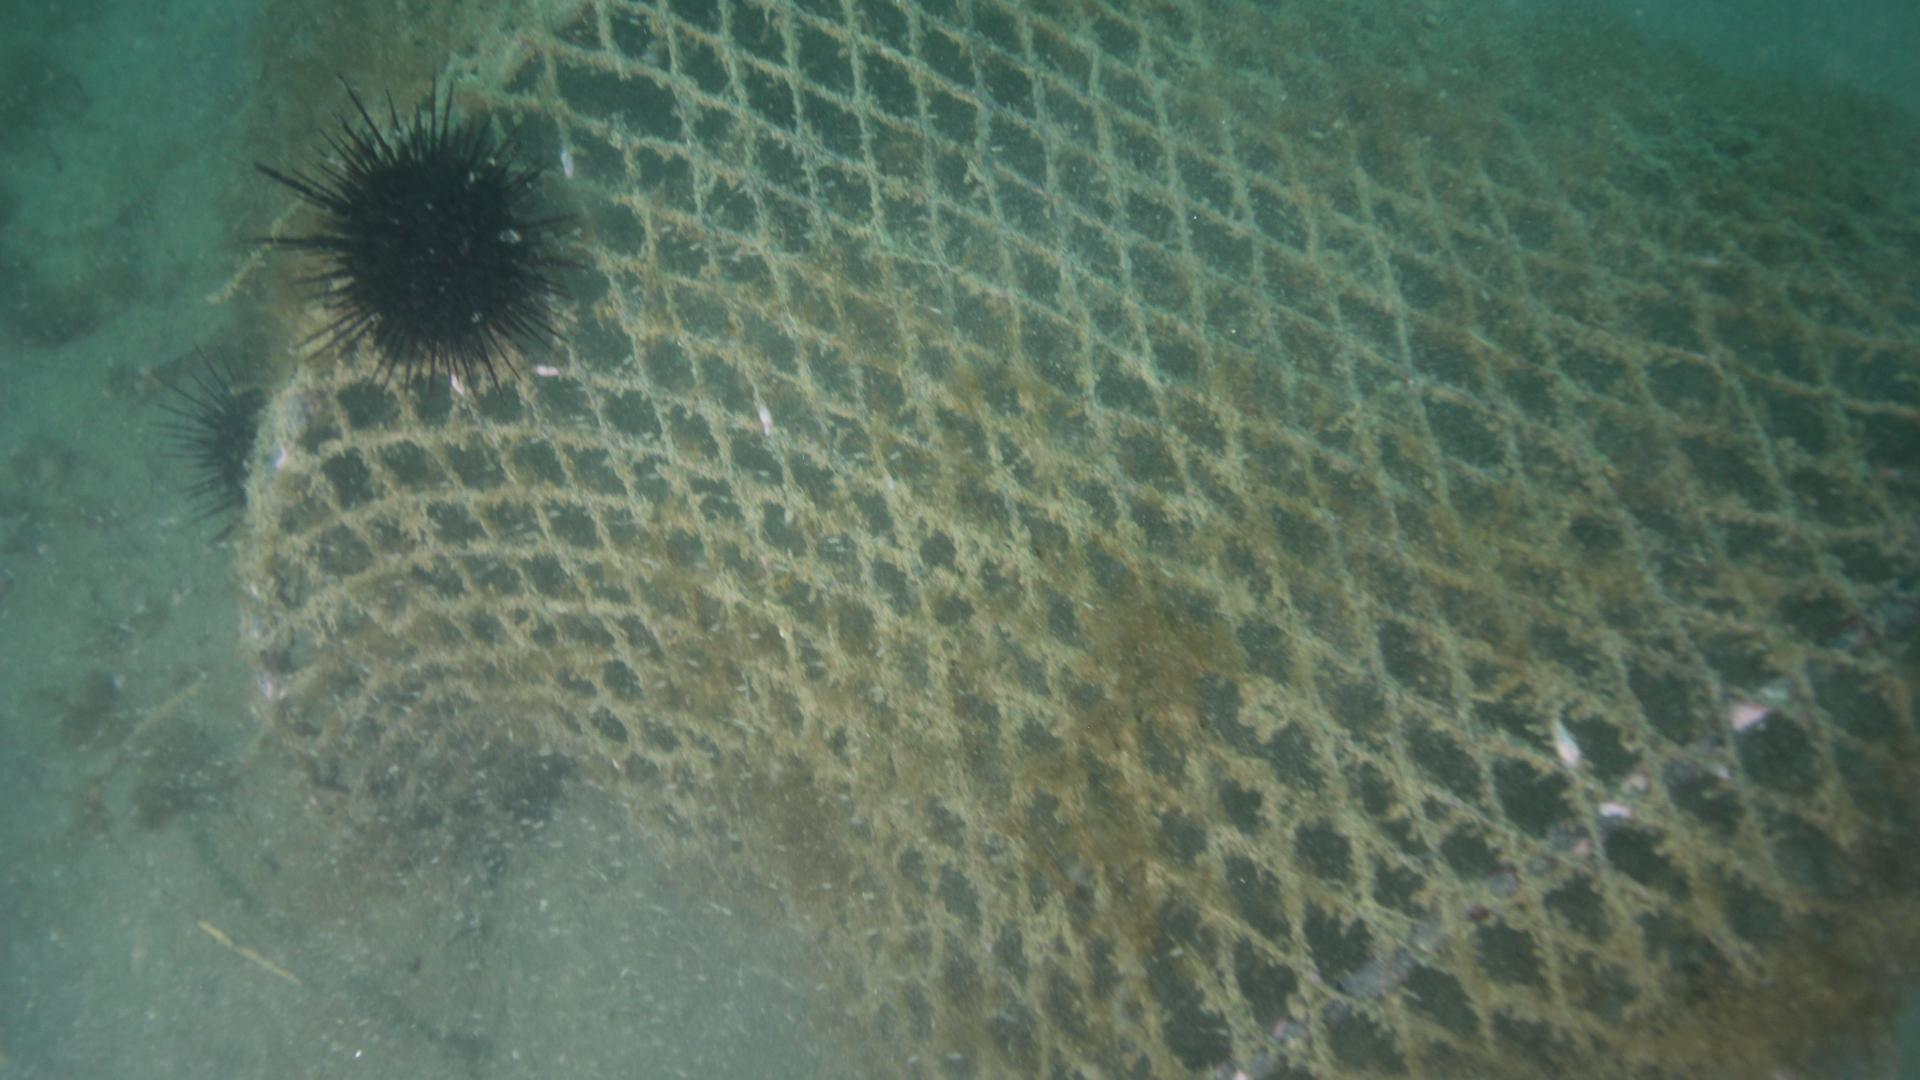spring fish trap: (231, 1, 1920, 1080)
